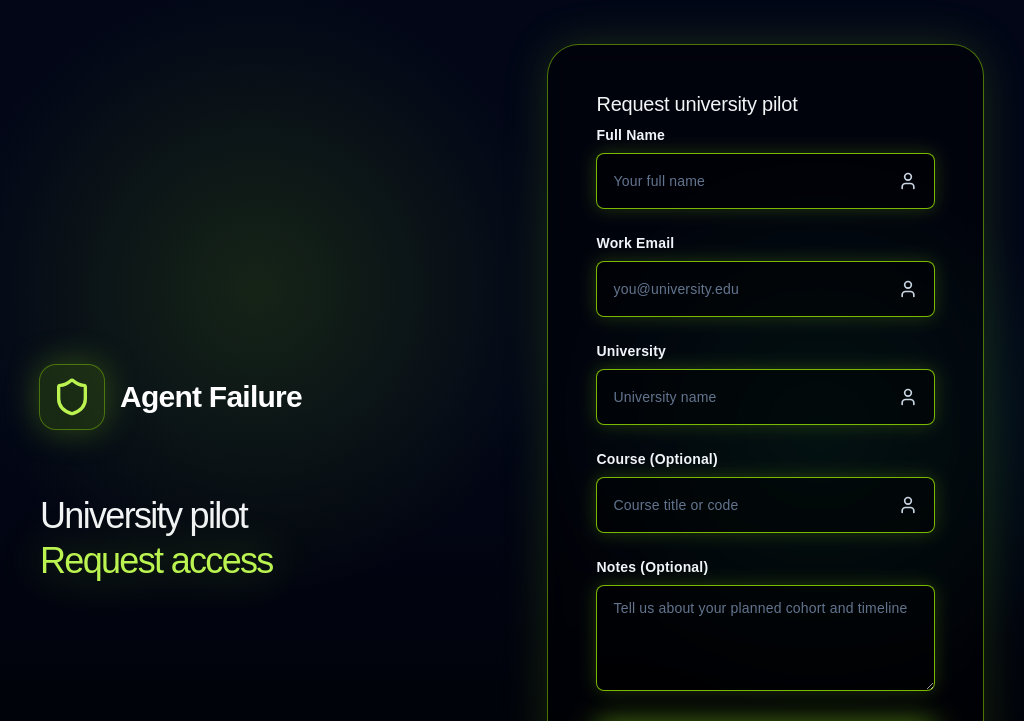
Test: PilotRequestPage › submits normalized form data through the lead client
This screenshot has width=1024, height=721.
Type "  Jane Smith  " into the field labelled "Full Name" at (756, 181), box [614,154,898,208]
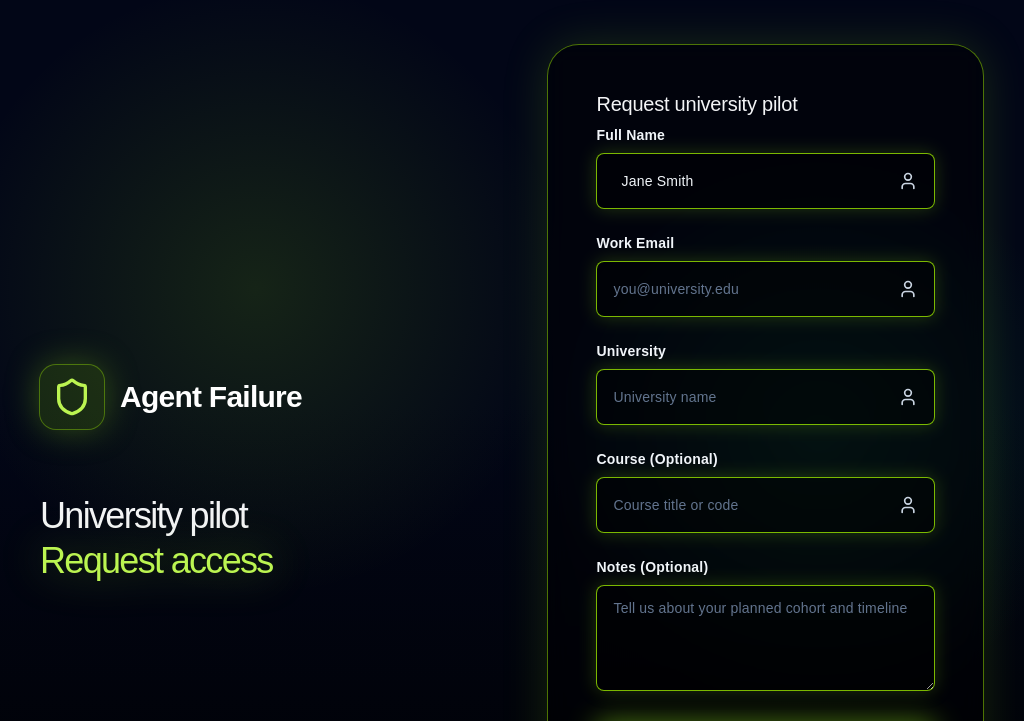
Type "  JANE@EXAMPLE.EDU  " into the field labelled "Work Email" at (756, 289), box [614,262,898,316]
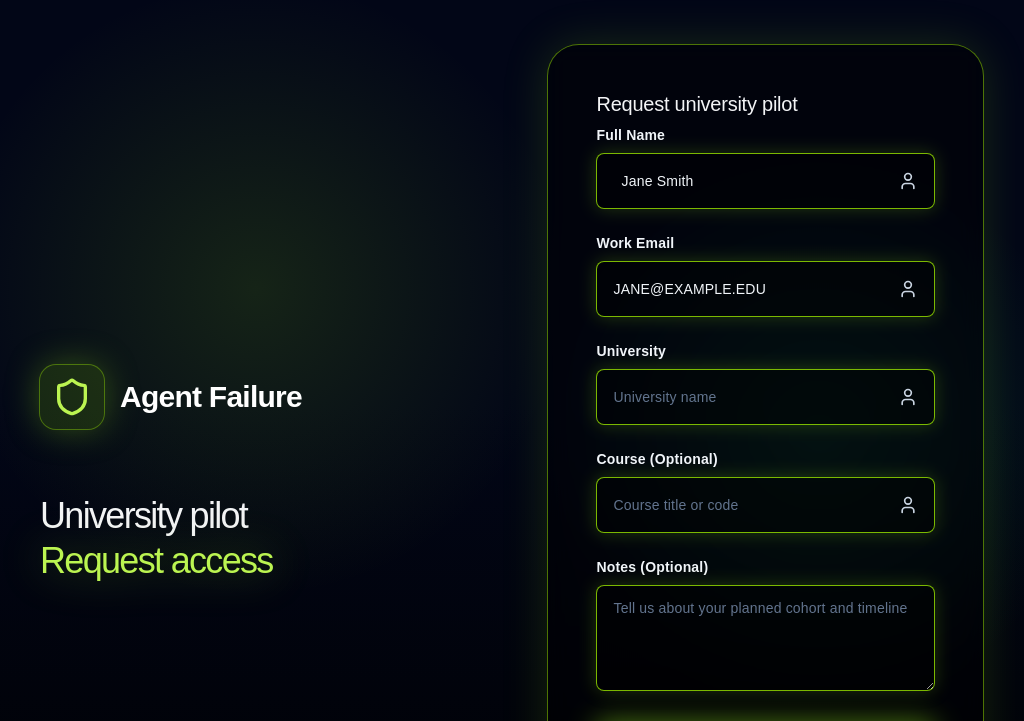
Type "  Example University  " into the field labelled "University" at (756, 397), box [614,370,898,424]
(page scrolled)
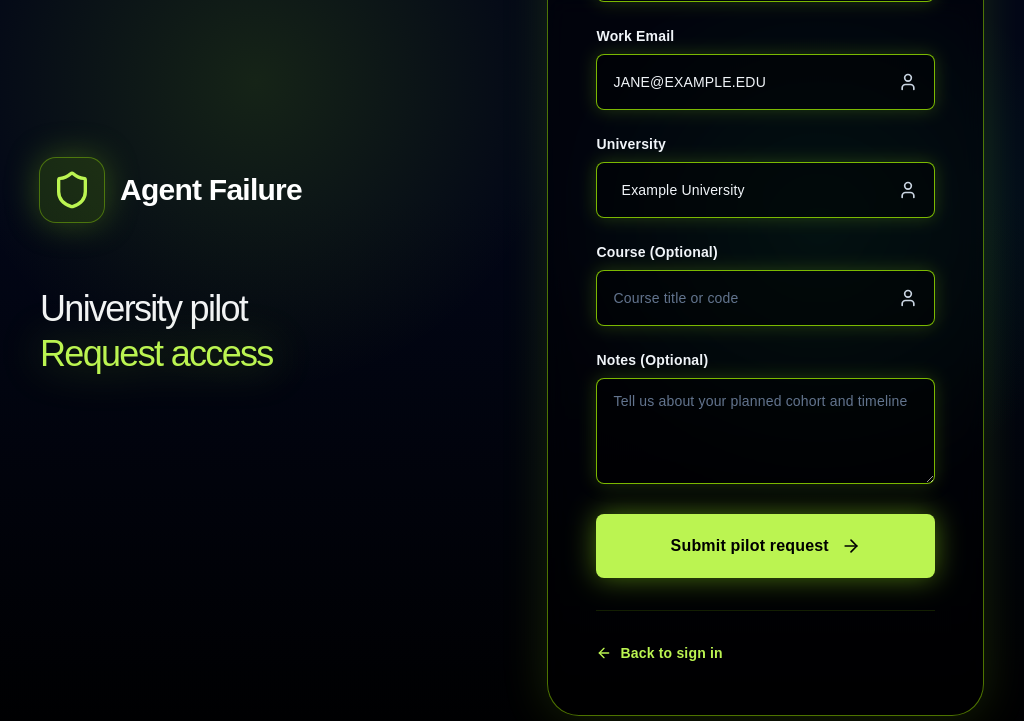
Click the button "Submit pilot request" at (766, 546), box [596,514,935,578]
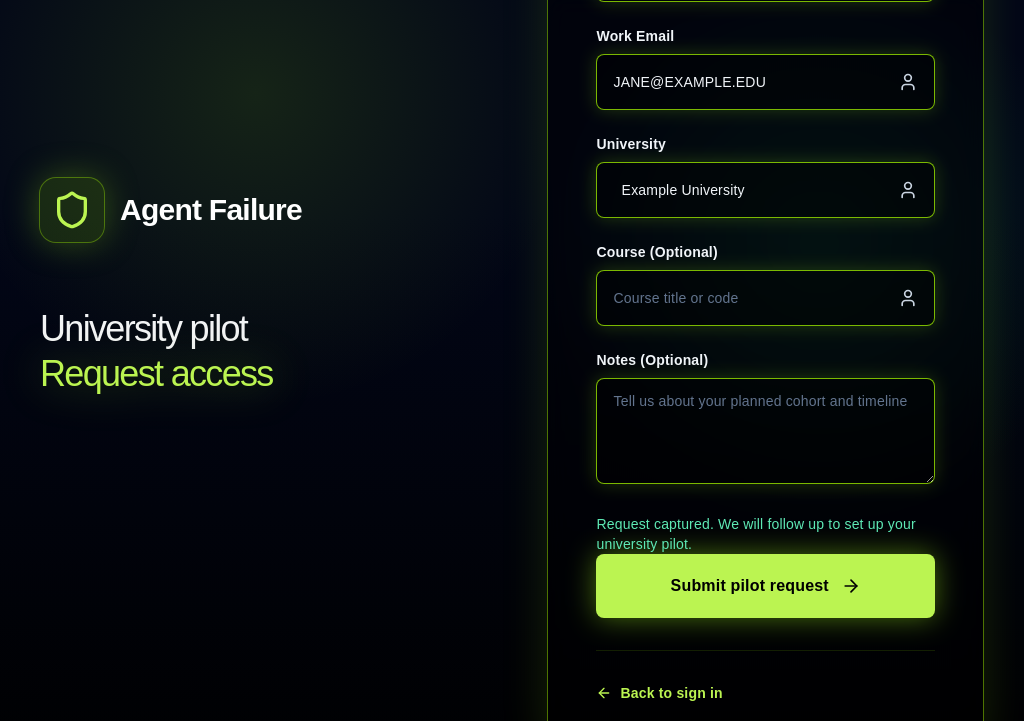
Check: the text "Request captured" is shown, box [596,516,916,552]
